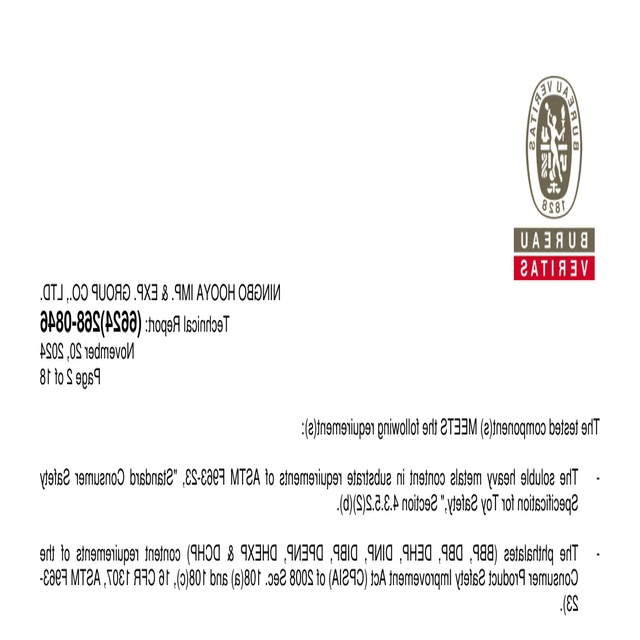bureau_veritas: (513, 72, 598, 284)
